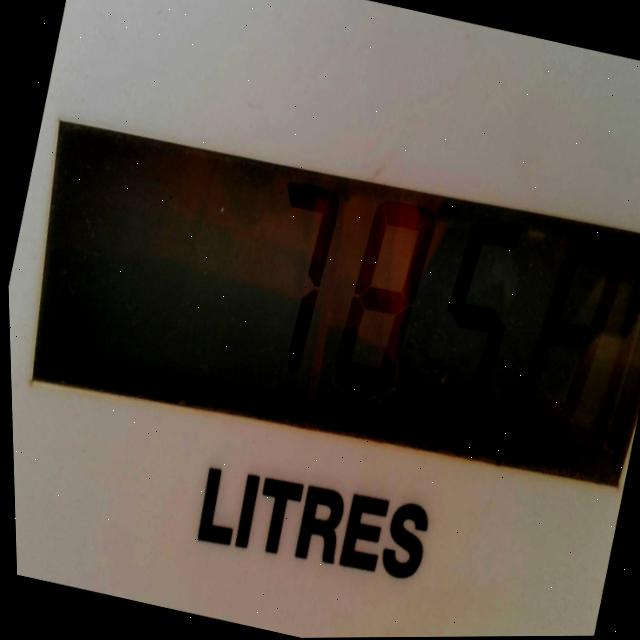.: (379, 329, 436, 422)
0: (227, 163, 370, 397)
5: (400, 202, 544, 447)
8: (492, 223, 640, 478), (315, 193, 450, 424)
